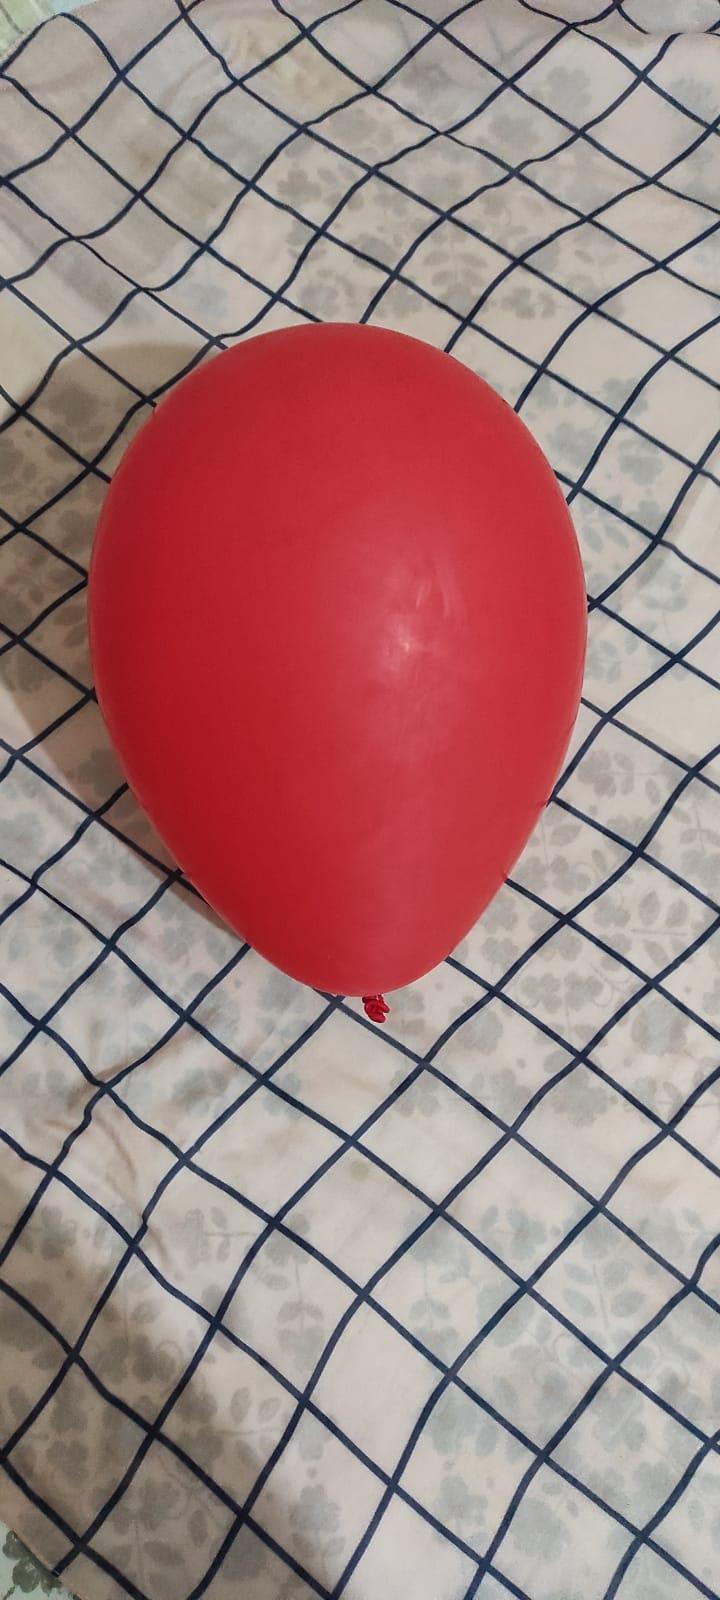red: (78, 307, 597, 1026)
